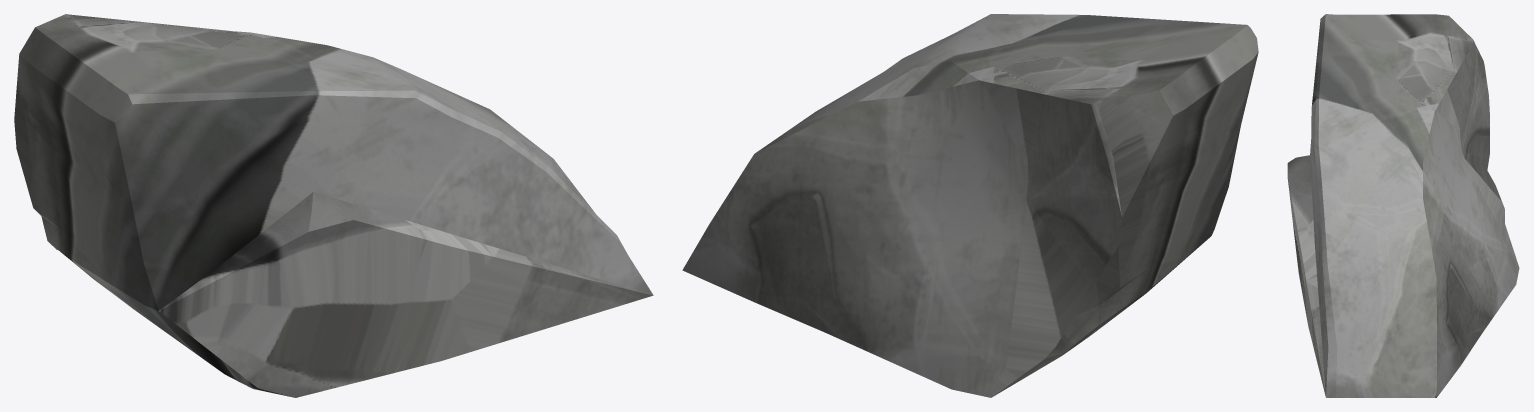
File: 10_R_Chica.fbx
3 renders of one model, left to right at view 1: azimuth 30°, elevation 25°; view 2: azimuth 150°, elevation 25°; view 3: azimuth 270°, elevation 25°, orthographic. The views are drawn at different scales.
Parts seen in each view (by area): view 1: 10_R_Chica_Low; view 2: 10_R_Chica_Low; view 3: 10_R_Chica_Low.
Part boxes in pixels (box(x1,y1,x2,y2)): 10_R_Chica_Low: box(14, 14, 653, 397); 10_R_Chica_Low: box(682, 14, 1258, 397); 10_R_Chica_Low: box(1287, 14, 1519, 397).
Size of the model in its own units: 1988 by 1152 by 1119.
